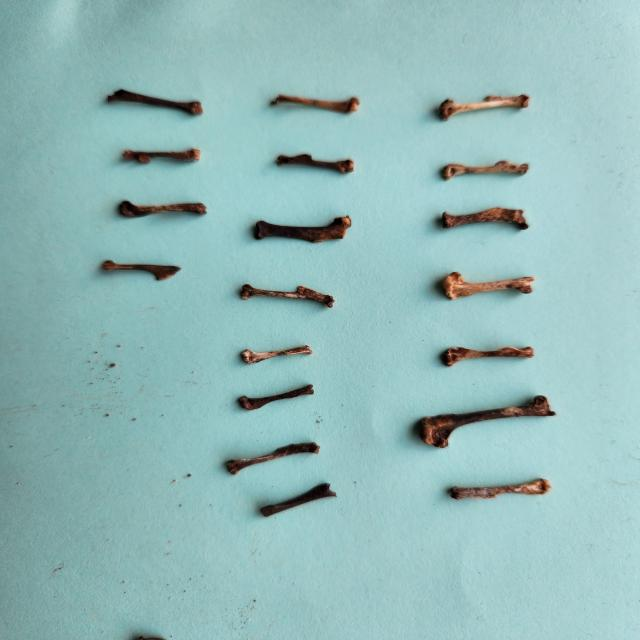fossil: (402, 391, 565, 455), (427, 85, 540, 127), (94, 84, 214, 122), (243, 212, 362, 249), (434, 266, 546, 304), (436, 475, 576, 505), (221, 439, 327, 477), (266, 85, 367, 124), (232, 278, 346, 312), (253, 480, 349, 520), (428, 152, 538, 186), (430, 337, 540, 370), (230, 380, 322, 417), (112, 194, 218, 225), (432, 203, 540, 233), (273, 149, 364, 179), (92, 255, 190, 282), (116, 142, 205, 169), (235, 342, 317, 368)
